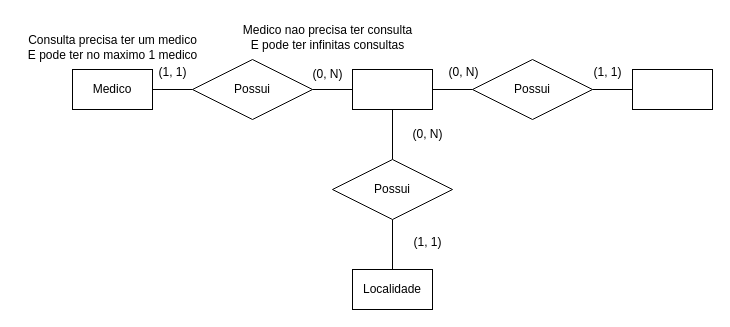
Image size: 730x327. Some labels were removed from this diagram. The centre of each missing label's shape, as x and y in pixels:
"Consulta" belongs at pixel 392 89.
"Paciente" belongs at pixel 672 89.
